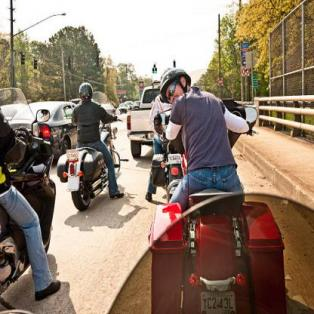Motocicleta: (62, 117, 127, 206)
